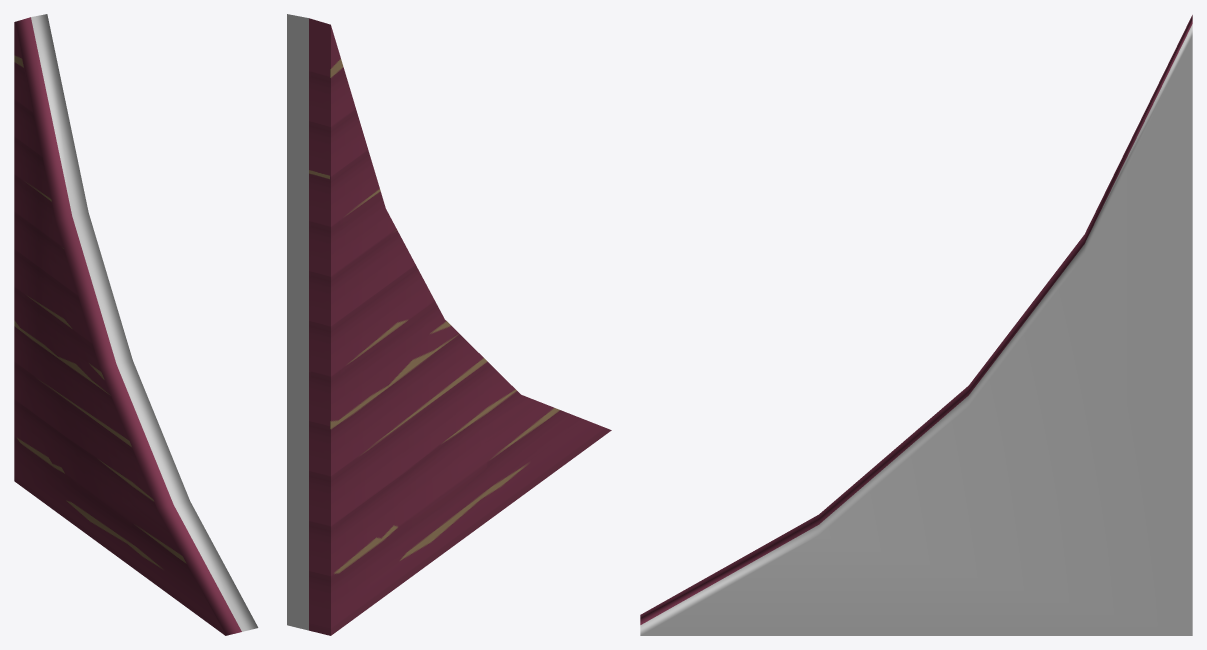
The model's file is SM_Bld_Roof_Concave_Wall_01.fbx.
The picture shows the model from 3 angles, left to right: view 1: azimuth 30°, elevation 25°; view 2: azimuth 150°, elevation 25°; view 3: azimuth 270°, elevation 25°; orthographic projection. The views are drawn at different scales.
Parts seen in each view (by area): view 1: SM_Bld_Roof_Concave_Wall_01; view 2: SM_Bld_Roof_Concave_Wall_01; view 3: SM_Bld_Roof_Concave_Wall_01.
Part boxes in pixels (x1,y1,x2,y2): SM_Bld_Roof_Concave_Wall_01: (14,14,258,635); SM_Bld_Roof_Concave_Wall_01: (287,14,611,635); SM_Bld_Roof_Concave_Wall_01: (640,15,1192,635).
Bounding box in the file's own units: 22.5 × 301 × 250.
